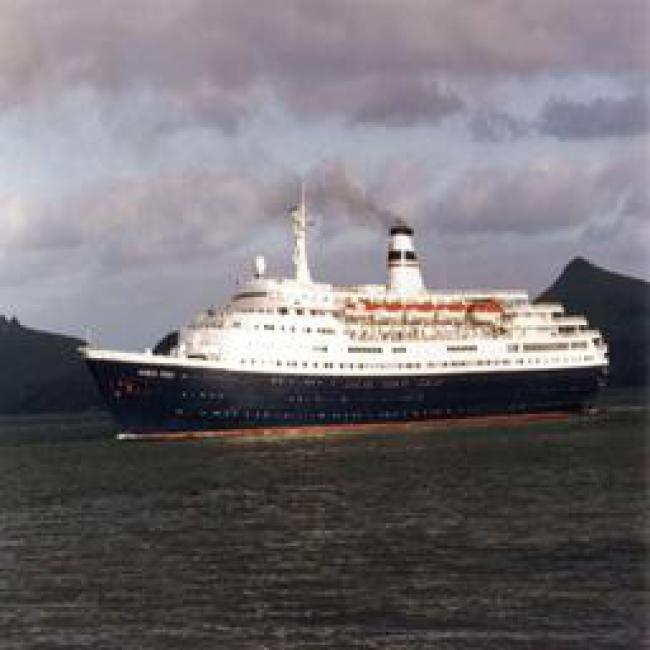Ship: (57, 259, 621, 445)
